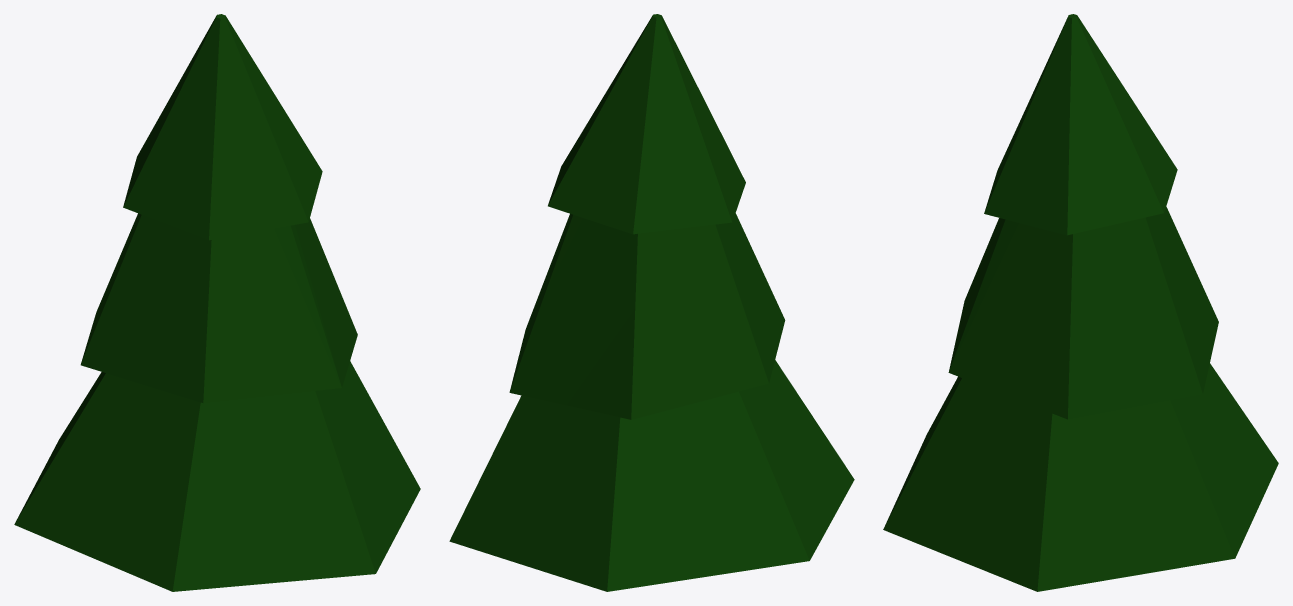
Rendered from tree.glb.
3 views of the same model, side by side, from view 1: azimuth 30°, elevation 25°; view 2: azimuth 150°, elevation 25°; view 3: azimuth 270°, elevation 25° (orthographic). The views are drawn at different scales.
Parts seen in each view (by area): view 1: tree; view 2: tree; view 3: tree.
Part boxes in pixels (<box>): tree: <box>14,14,420,591</box>; tree: <box>449,14,854,591</box>; tree: <box>883,14,1278,591</box>.
Size of the model in its own units: 15.09 by 20.54 by 14.71.
